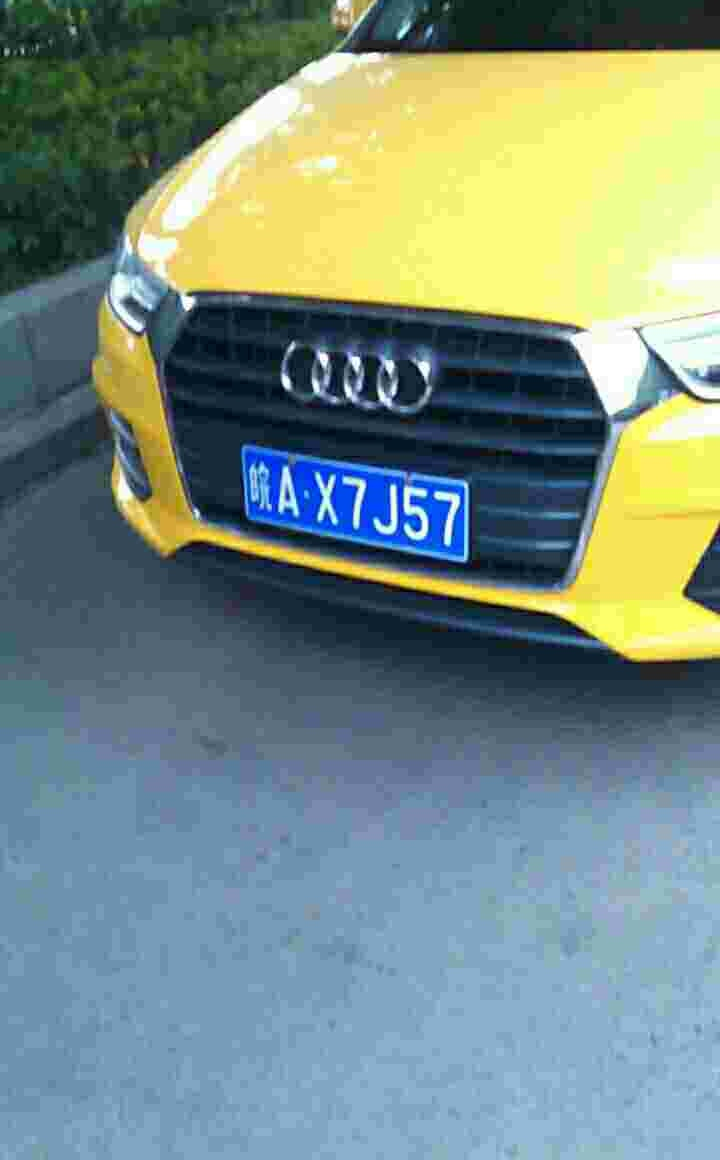license_plate: (242, 442, 478, 554)
